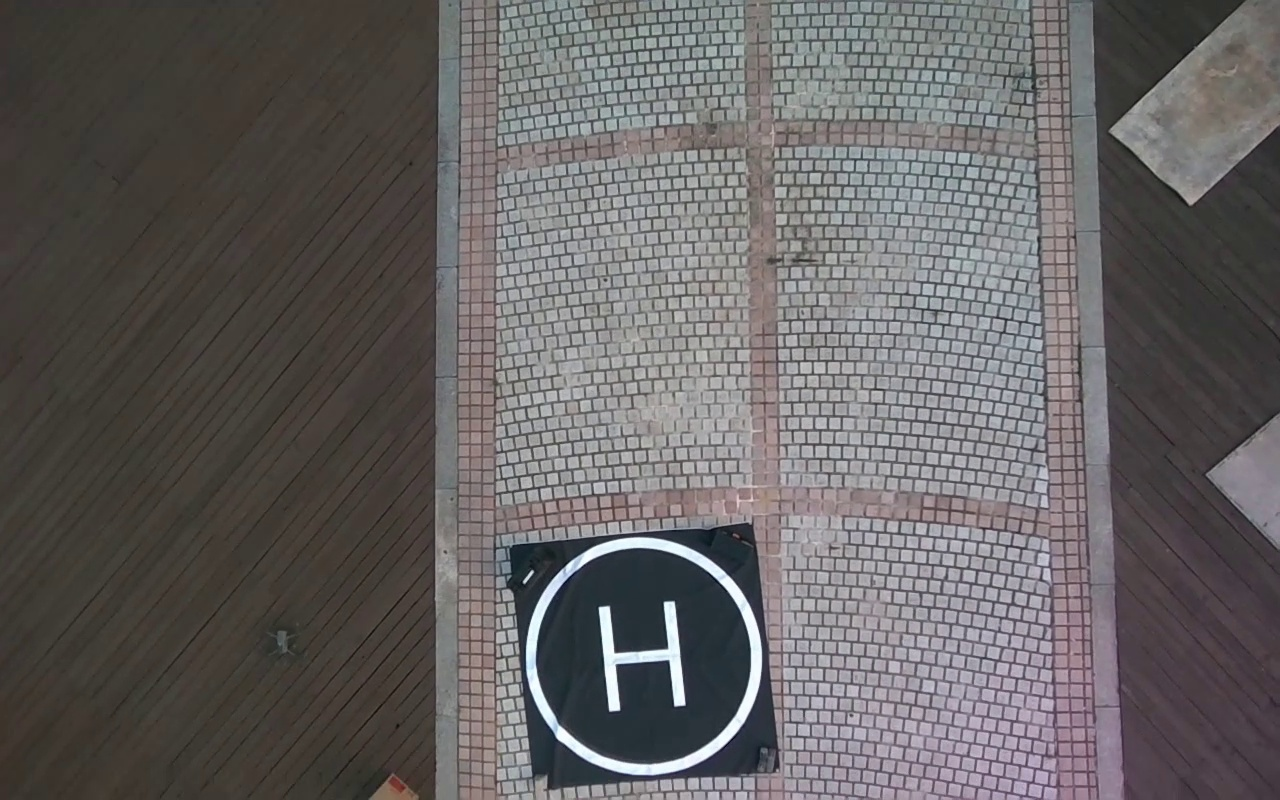H: (597, 598, 687, 713)
heliport: (527, 538, 763, 772)
